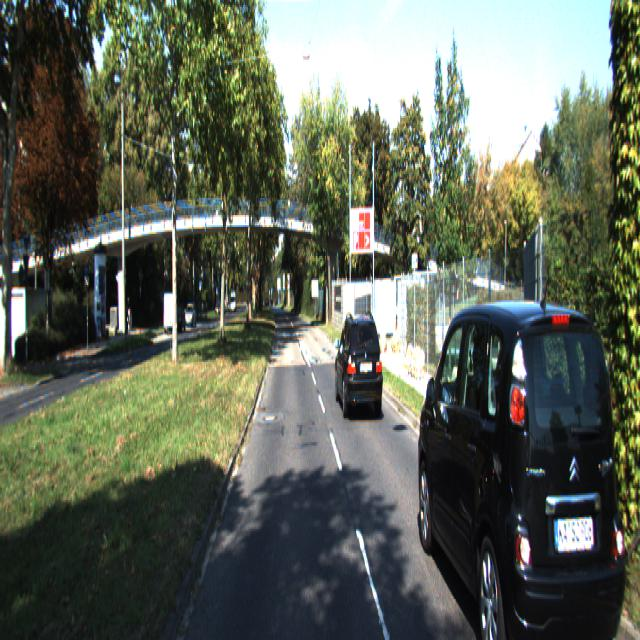Car: (411, 270, 628, 638), (334, 310, 383, 422)
